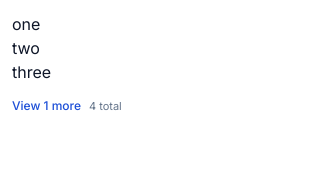
Test: TopNReveal view-more › shows remaining count, total, expands, and Show less collapses
This screenshot has width=332, height=172.
Check: the number of list items is 3, box [12, 14, 40, 34]; [12, 38, 40, 58]; [12, 62, 51, 82]
Check: the text "4 total" is shown, box [89, 98, 122, 114]
Click the button "View 1 more" at (47,106), box [12, 90, 81, 122]
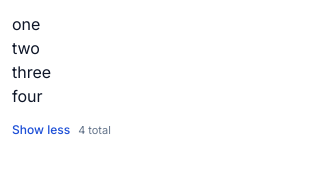
Check: the text "4 total" is shown, box [78, 122, 111, 138]
Check: the number of list items is 4, box [12, 14, 40, 34]; [12, 38, 40, 58]; [12, 62, 51, 82]; [12, 86, 42, 106]
Check: the button "Show less" is shown
Click the button "Show less" at (41,130), box [12, 114, 70, 146]
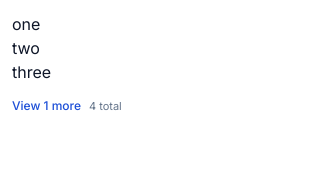
Check: the text "4 total" is shown, box [89, 98, 122, 114]
Check: the number of list items is 3, box [12, 14, 40, 34]; [12, 38, 40, 58]; [12, 62, 51, 82]
Check: the button "View 1 more" is shown, box [12, 90, 81, 122]
